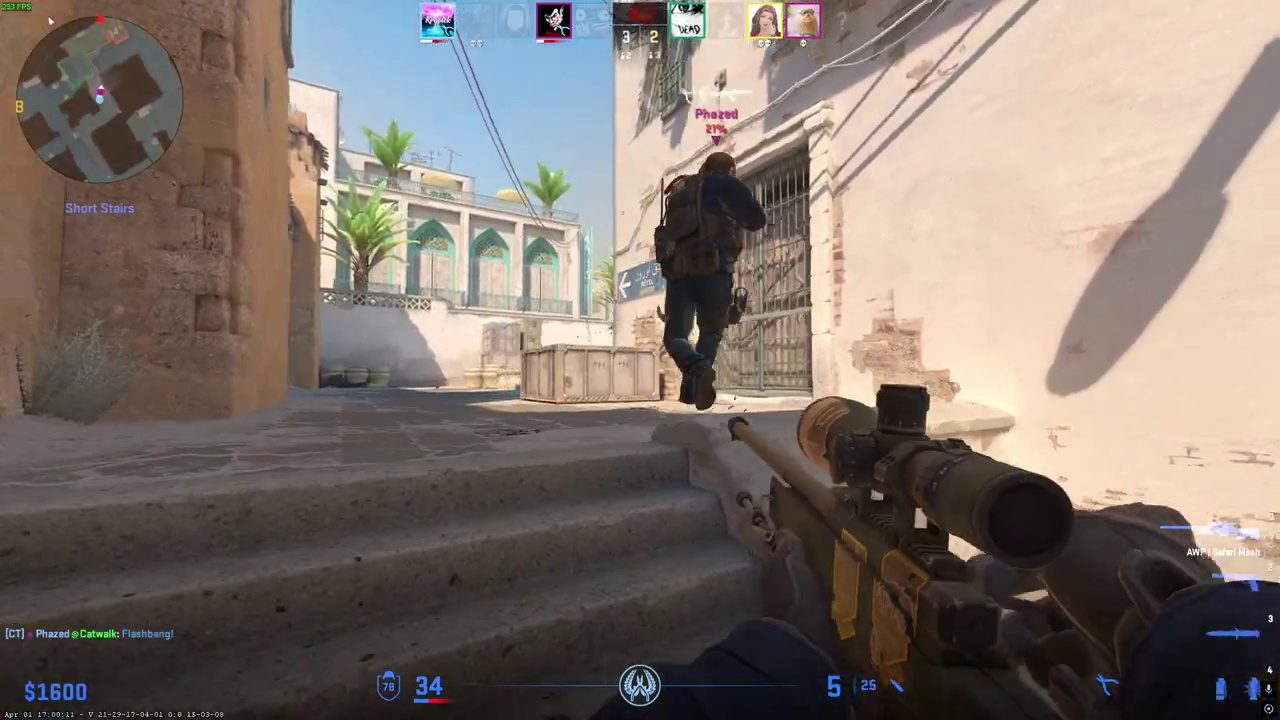CT: (655, 152, 760, 409)
